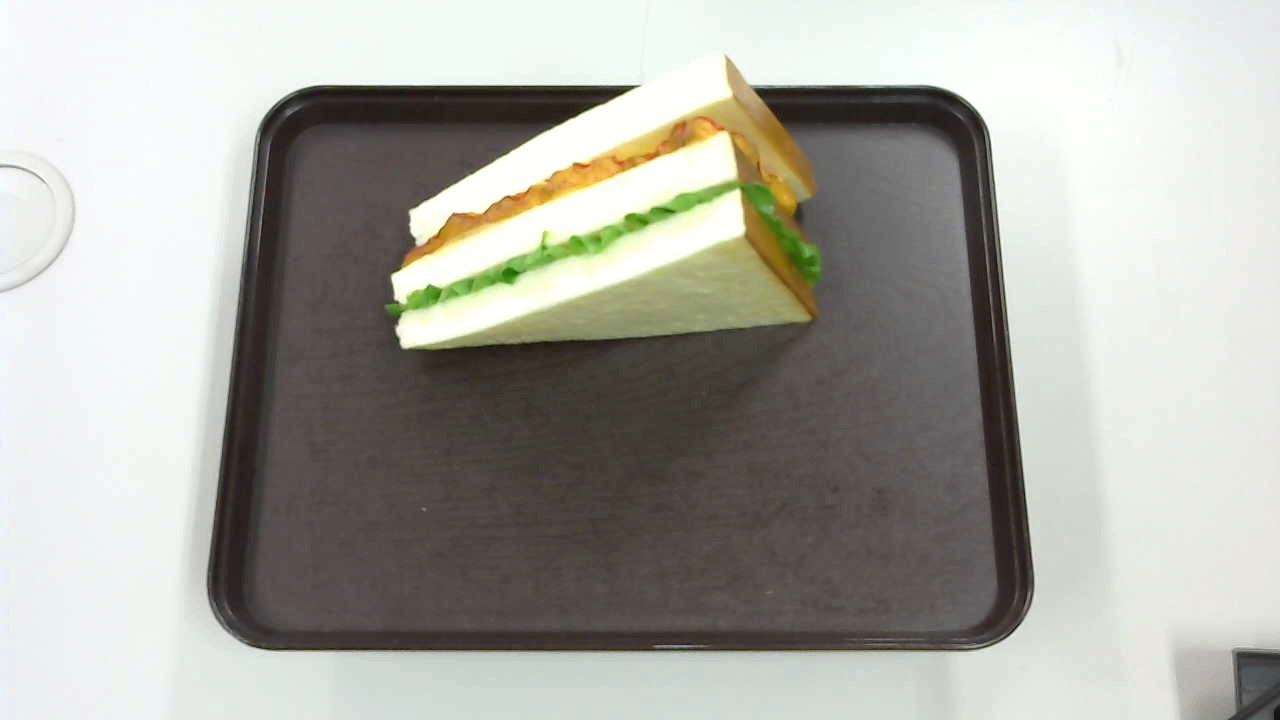sandwich: (384, 51, 821, 351)
